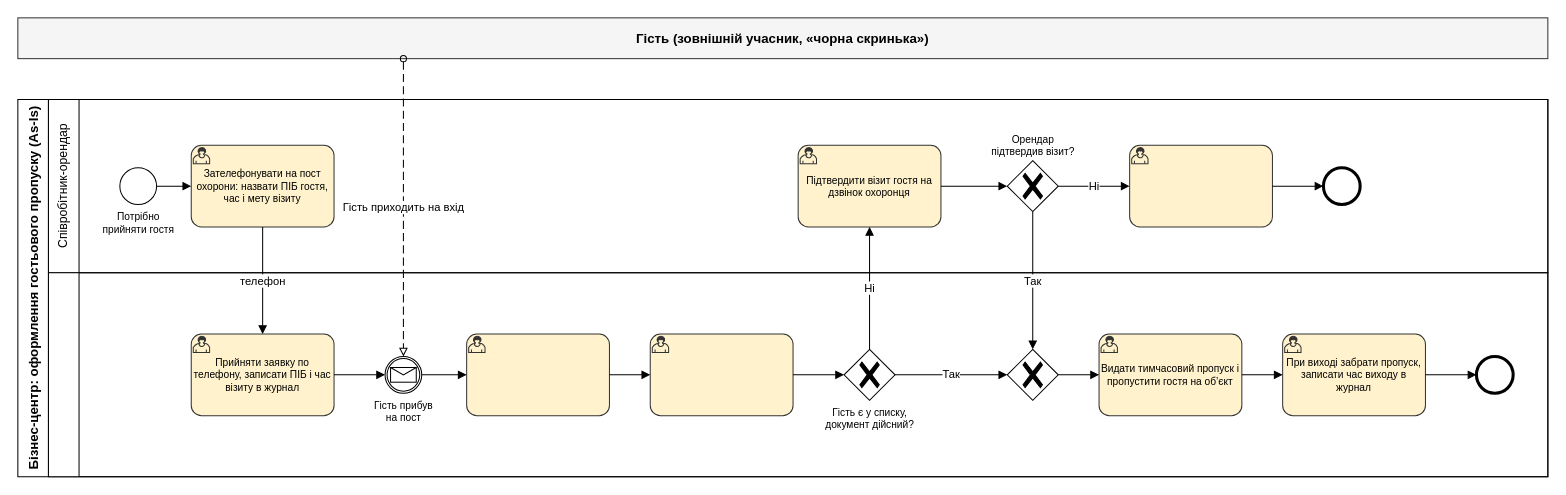
This 1566x495 diagram has some shape labels left out. Here are the shapes that lost their labels. From the top down, the box of each, then its label:
(1129, 144, 1272, 227): Повідомити охорону про відмову у візиті
(1322, 167, 1360, 205): Візит скасовано
(466, 333, 609, 416): Перевірити паспорт гостя та звірити зі записом у журналі
(649, 333, 793, 416): Вручну записати паспортні дані гостя в журнал
(47, 272, 1548, 477): Охоронець (пост охорони)
(1475, 355, 1513, 393): Процес завершено
